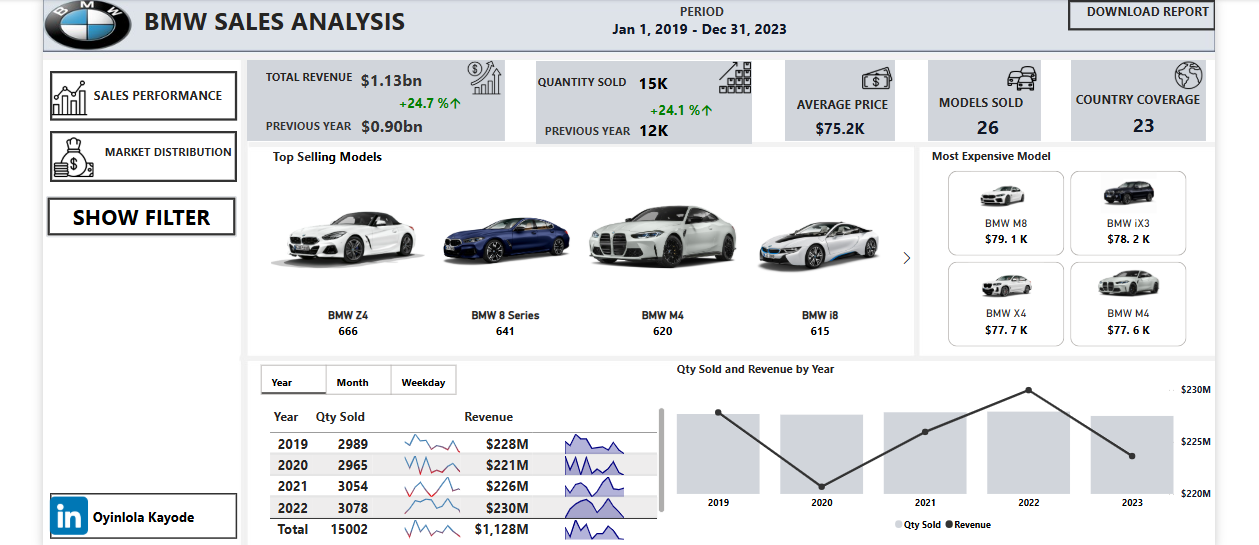

This screenshot's page, from the dashboard's own definition file:
{"tool":"powerbi","page":{"name":"Page 1","canvas":[1535,720],"ordinal":0},"visuals":[{"type":"shape","box":[267.1,79.9,337.7,106],"z":0},{"type":"shape","box":[971.3,79.9,144,106],"z":1000},{"type":"shape","box":[1345.7,79.9,176.7,106],"z":2000},{"type":"shape","box":[1158.5,79.9,147.9,106],"z":3000},{"type":"shape","box":[645.4,81.2,282.8,108.7],"z":4000},{"type":"lineClusteredColumnComboChart","fields":{"Category":["Calendar.Year"],"Y":["Measures (2).Qty Sold"],"Y2":["Measures (2).Revenue"]},"box":[824.5,474.2,710.5,232.1],"z":5000},{"type":"advancedSlicerVisual","fields":{"Values":["Model_Data.Model"]},"box":[272,213.6,874.3,249.2],"z":6000},{"type":"card","fields":{"Values":["Measures (2).Revenue PY"]},"box":[388.8,144,136.1,45.8],"z":7000},{"type":"textbox","box":[286.7,150.5,158.4,31.4],"z":8000},{"type":"card","fields":{"Values":["Measures (2).Revenue Variance % Arrow"]},"box":[456.9,112.6,99.5,51.1],"z":9000},{"type":"card","fields":{"Values":["Measures (2).Selected Period"]},"box":[720,27.5,280.1,27.5],"z":10000},{"type":"textbox","box":[828.7,0,99.5,41.9],"z":11000},{"type":"card","fields":{"Values":["Measures (2).Revenue"]},"box":[387.5,85.1,137.5,44.5],"z":12000},{"type":"advancedSlicerVisual","fields":{"Values":["Model_Data.Model"]},"box":[1159.4,220.5,362.8,241.8],"z":13000},{"type":"textbox","box":[296.2,189.4,166.6,35.6],"z":14000},{"type":"textbox","box":[286.7,86.4,223.9,32.7],"z":16000},{"type":"advancedSlicerVisual","fields":{"Values":["Periodslicer.Periodslicer"]},"box":[280.3,473.7,266,49.8],"z":17000},{"type":"tableEx","fields":{"Values":["Calendar.Year","Measures (2).Qty Sold","Measures (2).Qty Sold Sparkline","Measures (2).Revenue","Measures (2).Revenue Sparkline"]},"box":[276.2,523.6,558,190],"z":18000},{"type":"textbox","box":[1159.1,189.4,195.1,31.3],"z":19000},{"type":"card","title":"QUANTITY SOLD","fields":{"Values":["Measures (2).Qty Sold"]},"box":[709.5,91.6,178,39.3],"z":20000},{"type":"card","title":"QUANTITY SOLD","fields":{"Values":["Measures (2).Qty Sold PY"]},"box":[747.5,151.9,103.4,40.6],"z":21000},{"type":"card","title":"QUANTITY SOLD","fields":{"Values":["Measures (2).Qty Sold Variance % Arrow"]},"box":[786.8,123.1,96.9,48.4],"z":22000},{"type":"textbox","box":[651.9,157.1,134.8,35.3],"z":23000},{"type":"textbox","box":[642.8,92.9,140.1,36.7],"z":24000},{"type":"card","fields":{"Values":["CountNonNull(Model_Data.Model)"]},"box":[1192.6,144,89,48.4],"z":25000},{"type":"textbox","box":[1167.7,119.1,147.9,41.9],"z":26000},{"type":"card","fields":{"Values":["CountNonNull(Country_Data.Country)"]},"box":[1388.9,133.5,104.7,65.5],"z":27000},{"type":"textbox","box":[1347.1,115.2,188.5,51.1],"z":28000},{"type":"card","fields":{"Values":["Measures (2).Avg Price"]},"box":[993.6,150.5,99.5,41.9],"z":29000},{"type":"textbox","box":[981.8,121.7,147.9,31.4],"z":30000},{"type":"image","box":[1247.6,79.9,68.1,48.4],"z":31000},{"type":"image","box":[2.9,96.5,61.9,61.9],"z":32000},{"type":"actionButton","box":[3.9,257.9,250,53.7],"z":33000},{"type":"textbox","box":[126.6,0,398.3,61.2],"z":34000},{"type":"image","box":[809,75.9,193.7,53.7],"z":35000},{"type":"textbox","box":[61.9,109.4,234.7,53.3],"z":36000},{"type":"actionButton","box":[9.2,94.3,244.8,65.5],"z":37000},{"type":"image","box":[9.2,174.1,61.5,66.8],"z":38000},{"type":"textbox","box":[1361.3,0,173.7,58.4],"z":39000},{"type":"actionButton","box":[9.2,172.8,244.8,66.8],"z":40000},{"type":"textbox","box":[75.9,184.6,191.1,47.1],"z":41000},{"type":"actionButton","box":[1341.3,1.4,193.7,39.9],"z":42000},{"type":"actionButton","box":[9.2,646.7,244.8,60.2],"z":43000},{"type":"image","box":[3.9,645.4,60.2,61.5],"z":44000},{"type":"image","box":[524.9,75.9,106,53.7],"z":45000},{"type":"image","box":[1476.7,75.9,45.8,48.4],"z":46000},{"type":"image","box":[1061.7,75.9,61.5,55],"z":47000}]}

Visuals, with their boxes on the page's 1535x720 design canvas (x1, y1, x2, y2). These are canvas units, not pixel positions in the 1259x545 screenshot, which may show the page scaled, cropped or inside an application window:
shape: Rect(267, 80, 605, 186)
shape: Rect(971, 80, 1115, 186)
shape: Rect(1346, 80, 1522, 186)
shape: Rect(1158, 80, 1306, 186)
shape: Rect(645, 81, 928, 190)
lineClusteredColumnComboChart - Calendar.Year x Measures (2).Qty Sold: Rect(824, 474, 1535, 706)
advancedSlicerVisual - Model_Data.Model: Rect(272, 214, 1146, 463)
card - Measures (2).Revenue PY: Rect(389, 144, 525, 190)
textbox: Rect(287, 150, 445, 182)
card - Measures (2).Revenue Variance % Arrow: Rect(457, 113, 556, 164)
card - Measures (2).Selected Period: Rect(720, 28, 1000, 55)
textbox: Rect(829, 0, 928, 42)
card - Measures (2).Revenue: Rect(388, 85, 525, 130)
advancedSlicerVisual - Model_Data.Model: Rect(1159, 220, 1522, 462)
textbox: Rect(296, 189, 463, 225)
textbox: Rect(287, 86, 511, 119)
advancedSlicerVisual - Periodslicer.Periodslicer: Rect(280, 474, 546, 524)
tableEx - Calendar.Year x Measures (2).Qty Sold: Rect(276, 524, 834, 714)
textbox: Rect(1159, 189, 1354, 221)
"QUANTITY SOLD" card: Rect(710, 92, 888, 131)
"QUANTITY SOLD" card: Rect(748, 152, 851, 192)
"QUANTITY SOLD" card: Rect(787, 123, 884, 172)
textbox: Rect(652, 157, 787, 192)
textbox: Rect(643, 93, 783, 130)
card - CountNonNull(Model_Data.Model): Rect(1193, 144, 1282, 192)
textbox: Rect(1168, 119, 1316, 161)
card - CountNonNull(Country_Data.Country): Rect(1389, 134, 1494, 199)
textbox: Rect(1347, 115, 1536, 166)
card - Measures (2).Avg Price: Rect(994, 150, 1093, 192)
textbox: Rect(982, 122, 1130, 153)
image: Rect(1248, 80, 1316, 128)
image: Rect(3, 96, 65, 158)
actionButton: Rect(4, 258, 254, 312)
textbox: Rect(127, 0, 525, 61)
image: Rect(809, 76, 1003, 130)
textbox: Rect(62, 109, 297, 163)
actionButton: Rect(9, 94, 254, 160)
image: Rect(9, 174, 71, 241)
textbox: Rect(1361, 0, 1535, 58)
actionButton: Rect(9, 173, 254, 240)
textbox: Rect(76, 185, 267, 232)
actionButton: Rect(1341, 1, 1535, 41)
actionButton: Rect(9, 647, 254, 707)
image: Rect(4, 645, 64, 707)
image: Rect(525, 76, 631, 130)
image: Rect(1477, 76, 1522, 124)
image: Rect(1062, 76, 1123, 131)
